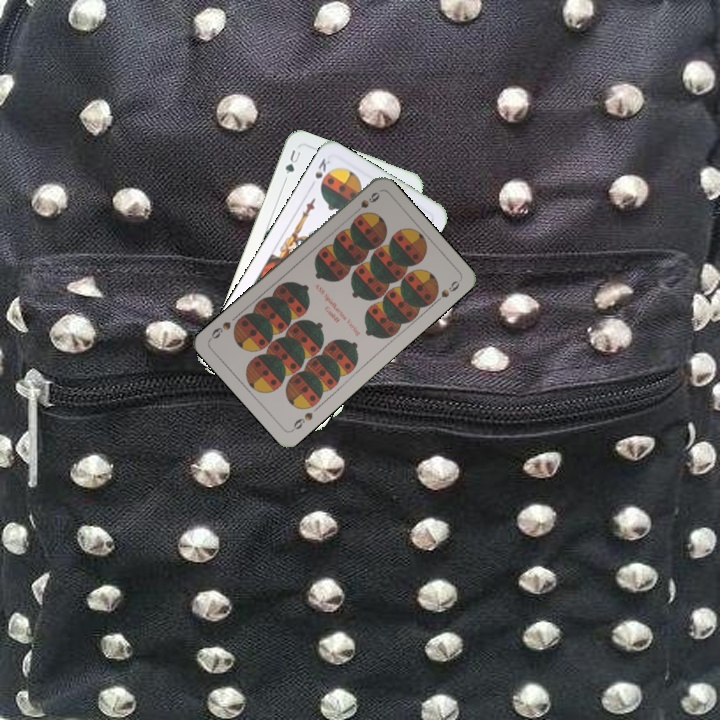GU: (281, 146, 303, 177)
S9: (348, 188, 382, 219), (288, 408, 316, 434)
SK: (306, 154, 333, 191)
